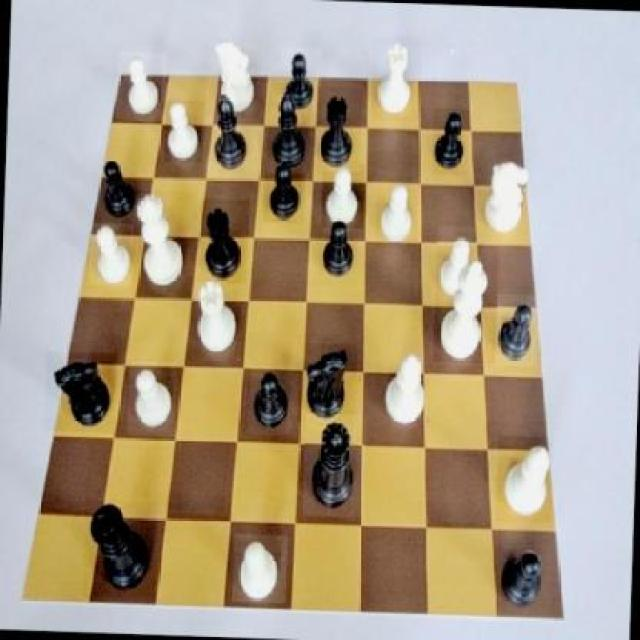bishop: (203, 88, 260, 180), (264, 83, 312, 174)
black-bishop: (83, 500, 159, 600)
black-king: (43, 351, 117, 434), (297, 343, 358, 424)
black-knight: (502, 534, 552, 614), (314, 212, 361, 288), (92, 154, 142, 221), (249, 366, 294, 437), (495, 294, 538, 367), (277, 46, 321, 111), (263, 162, 306, 224), (432, 109, 470, 177)
black-pawn: (303, 412, 366, 516)
black-queen: (196, 198, 248, 284), (314, 86, 361, 171)
black-rook: (496, 436, 554, 522), (378, 348, 432, 432)
white-bishop: (434, 244, 500, 364)
white-king: (208, 42, 265, 119)
white-knight: (232, 532, 288, 602), (128, 359, 178, 436), (116, 51, 166, 120), (436, 226, 478, 303), (376, 180, 418, 251), (88, 222, 134, 286), (322, 163, 366, 228), (164, 99, 204, 162)
white-pawn: (131, 191, 197, 298)
white-queen: (190, 274, 242, 361), (371, 35, 421, 120)
